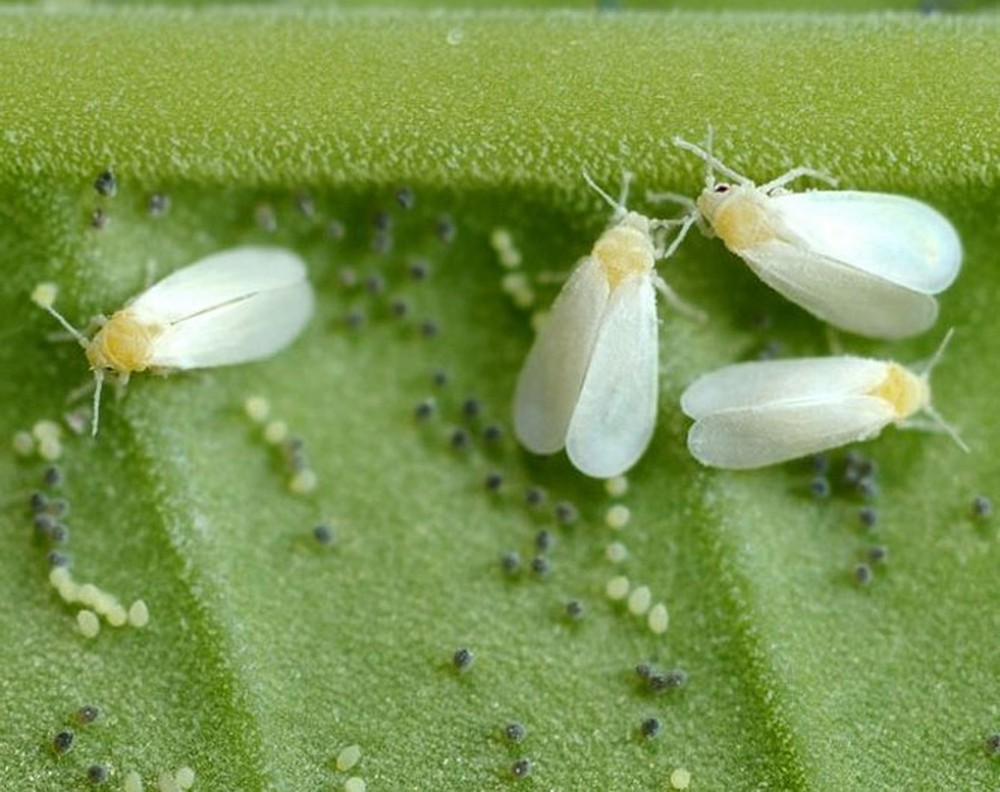Mosca Blanca: (679, 124, 976, 354), (485, 163, 684, 491), (29, 240, 339, 436), (671, 334, 985, 497)
